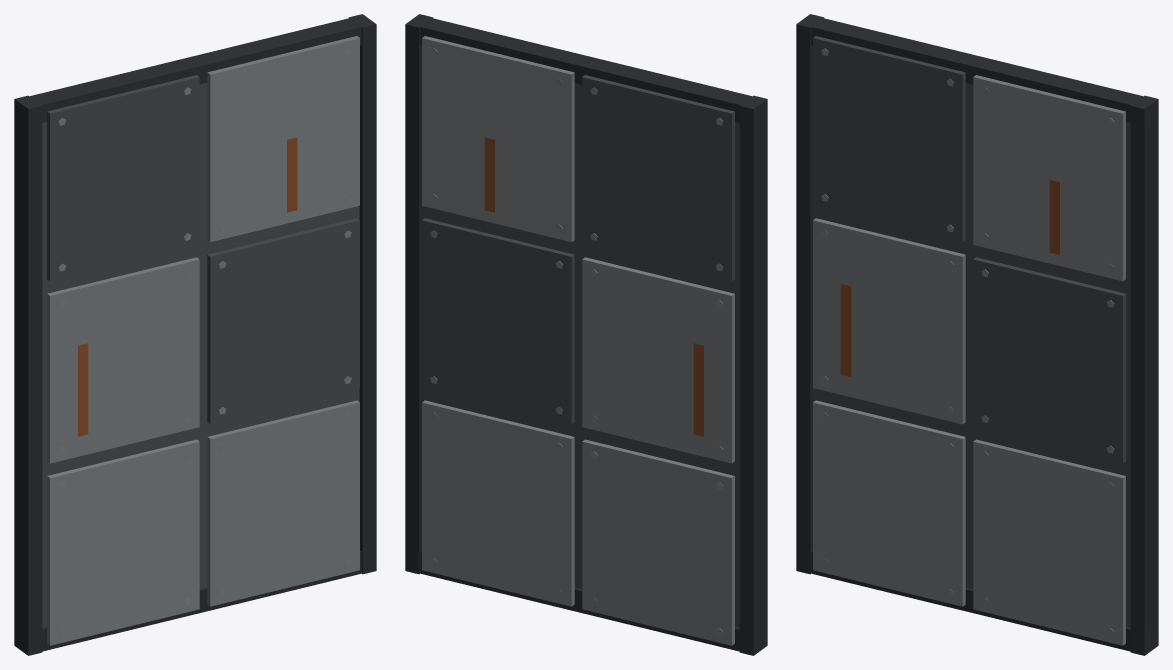
File: piece_wall_reinforced.fbx
The picture shows the model from 3 angles, left to right: view 1: azimuth 30°, elevation 25°; view 2: azimuth 150°, elevation 25°; view 3: azimuth 330°, elevation 25°; orthographic projection.
Visible parts, largest first — view 1: piece_wall_reinforced; view 2: piece_wall_reinforced; view 3: piece_wall_reinforced.
Boxes of the visible parts, x1,y1,x2,y2 form: piece_wall_reinforced: [14, 14, 376, 655]; piece_wall_reinforced: [405, 14, 767, 655]; piece_wall_reinforced: [796, 14, 1158, 655].
Bounding box in the file's own units: 2 × 3 × 0.196.
